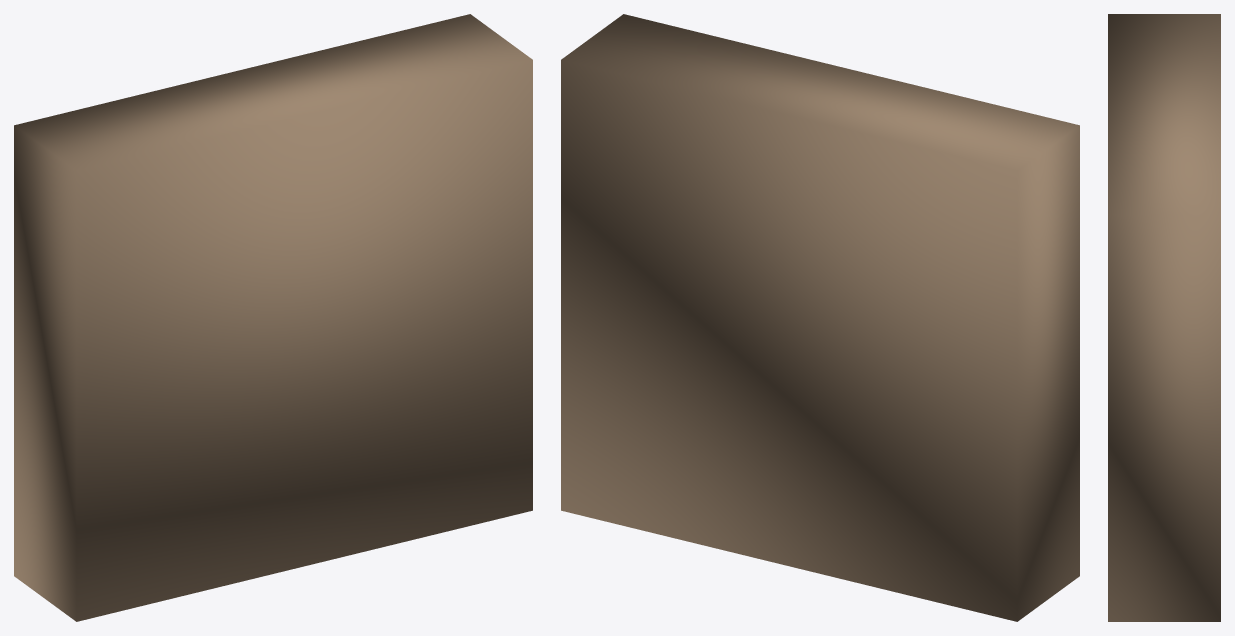
The model's file is back_bar_shelf__deep.glb.
The picture shows the model from 3 angles, left to right: view 1: azimuth 30°, elevation 25°; view 2: azimuth 150°, elevation 25°; view 3: azimuth 270°, elevation 25°; orthographic projection. The views are drawn at different scales.
Parts seen in each view (by area): view 1: world; view 2: world; view 3: world.
Part boxes in pixels (x1,y1,x2,y2): world: (14, 14, 532, 621); world: (561, 14, 1079, 621); world: (1108, 14, 1220, 621).
Bounding box in the file's own units: 1.8 × 1.7 × 0.427.
